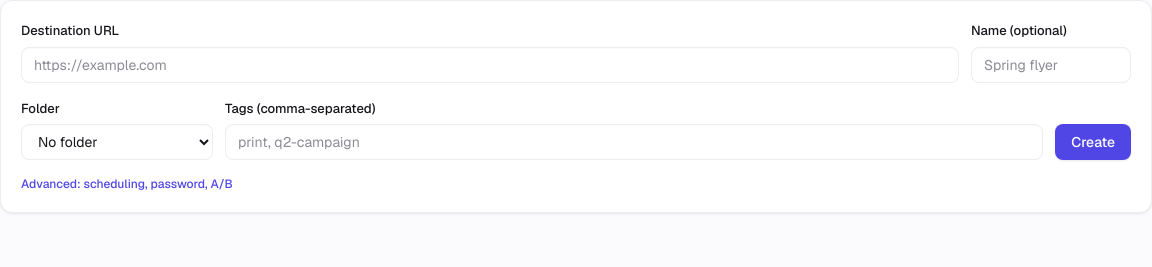
CreateQrForm › shows the API error and does not refresh
In the field with placeholder "https://example.com": (490, 64) [21,46,959,82], type "https://malware.test"
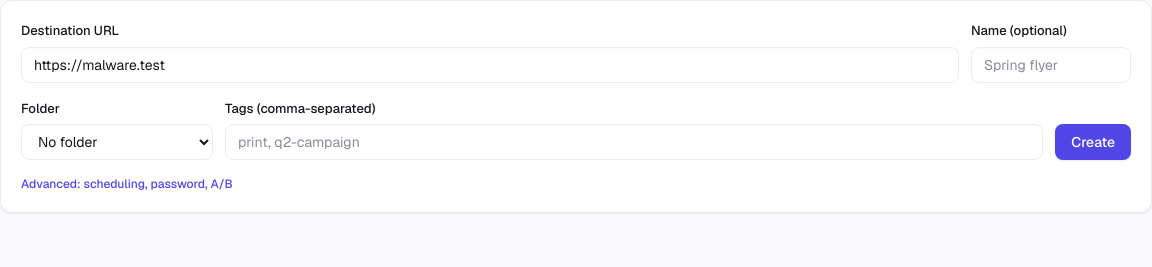
Click the button "Create": (1093, 142) [1055,124,1131,160]
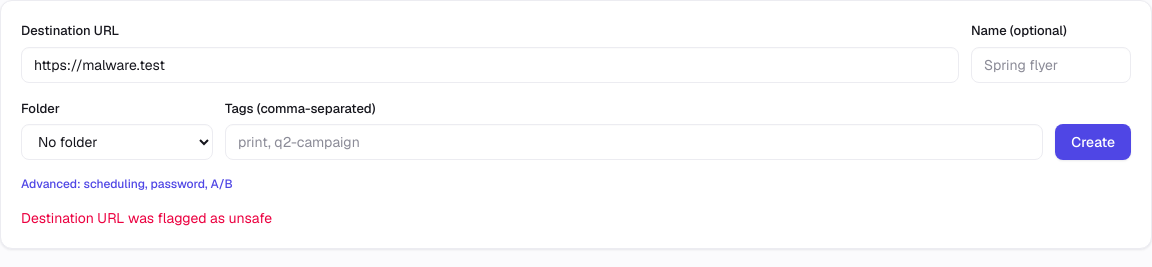
Now the text "Destination URL was flagged as unsafe" is shown, box [21,209,272,227]
